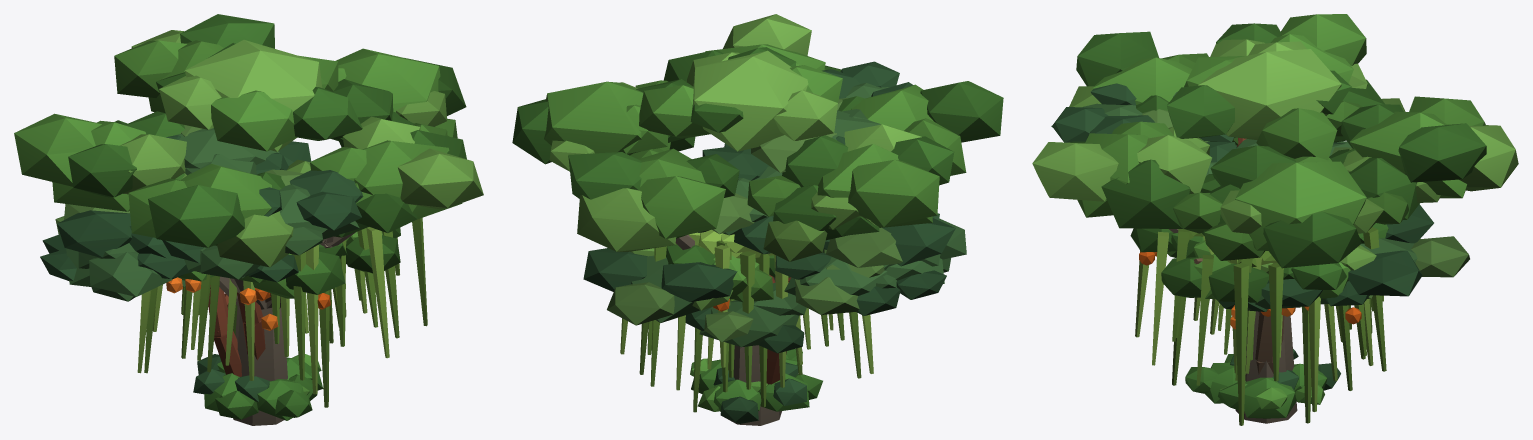
Rendered from farmtree.glb.
3 views of the same model, side by side, from view 1: azimuth 30°, elevation 25°; view 2: azimuth 150°, elevation 25°; view 3: azimuth 270°, elevation 25° (orthographic).
Visible parts, largest first — view 1: ft_zel_leaf, ft_pine, ft_wil_leaf, ft_bush, ft_pine2, gam_leaf, ft_zel_trunk, gam_fruit; view 2: ft_zel_leaf, ft_pine, ft_pine2, ft_wil_leaf, ft_bush, gam_leaf, ft_zel_trunk; view 3: ft_zel_leaf, ft_wil_leaf, ft_pine, gam_leaf, ft_bush, ft_zel_trunk, ft_pine2, ft_wil_trunk, gam_fruit.
Boxes of the visible parts, x1,y1,x2,y2 form: ft_zel_leaf: (14, 14, 483, 267); ft_pine: (57, 125, 363, 359); ft_wil_leaf: (137, 217, 427, 407); ft_bush: (193, 354, 323, 420); ft_pine2: (40, 141, 311, 376); gam_leaf: (178, 228, 400, 298); ft_zel_trunk: (219, 232, 355, 425); gam_fruit: (166, 277, 330, 330); ft_zel_leaf: (512, 14, 1003, 261); ft_pine: (583, 61, 966, 325); ft_pine2: (685, 143, 950, 384); ft_wil_leaf: (620, 229, 873, 412); ft_bush: (690, 349, 822, 423); gam_leaf: (630, 244, 790, 310); ft_zel_trunk: (675, 235, 781, 425); ft_zel_leaf: (1032, 14, 1518, 268); ft_wil_leaf: (1135, 227, 1386, 425); ft_pine: (1051, 83, 1469, 311); gam_leaf: (1130, 223, 1388, 302); ft_bush: (1185, 349, 1340, 418); ft_zel_trunk: (1169, 229, 1297, 423); ft_pine2: (1206, 139, 1373, 306); ft_wil_trunk: (1194, 258, 1284, 374); gam_fruit: (1139, 252, 1361, 329).
Bounding box in the file's own units: 8.74 × 7.17 × 8.68.
